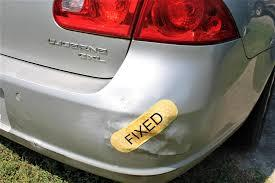dent: (106, 123, 198, 161)
